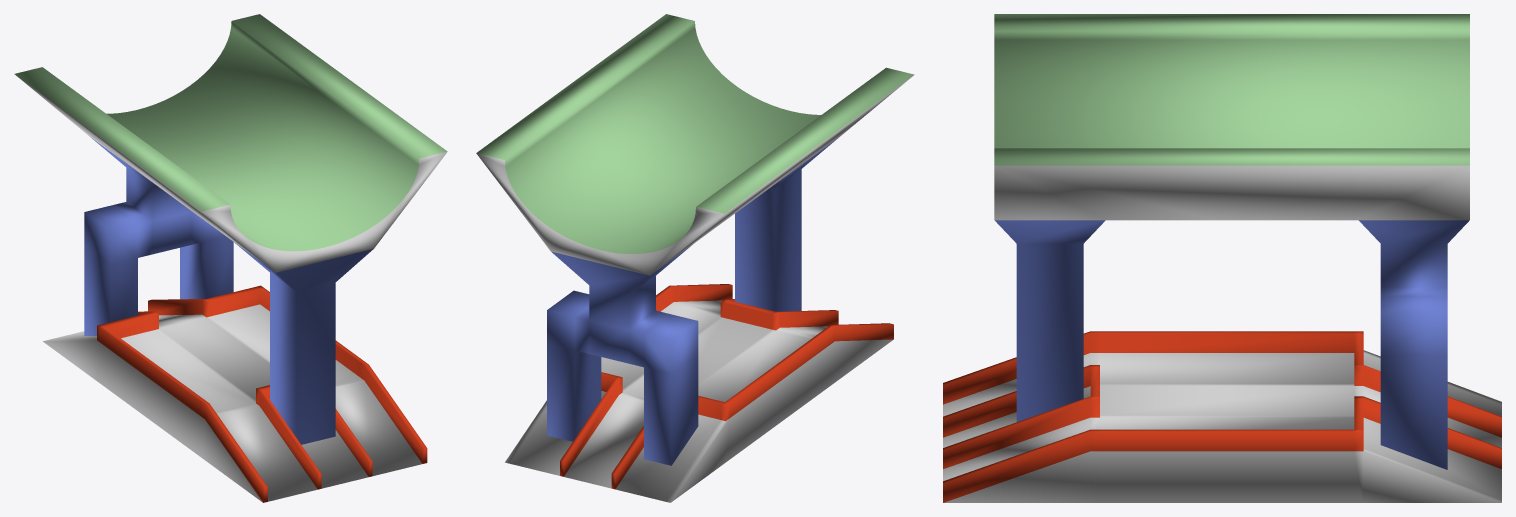
Rendered from Ramp-half.fbx.
3 views of the same model, side by side, from view 1: azimuth 30°, elevation 25°; view 2: azimuth 150°, elevation 25°; view 3: azimuth 270°, elevation 25° (orthographic). The views are drawn at different scales.
Parts seen in each view (by area): view 1: Halfpipe_ramps; view 2: Halfpipe_ramps; view 3: Halfpipe_ramps.
Part boxes in pixels (left/top/right/bottom): Halfpipe_ramps: left=14, top=14, right=447, bottom=502; Halfpipe_ramps: left=476, top=14, right=914, bottom=502; Halfpipe_ramps: left=943, top=14, right=1501, bottom=502.
Bounding box in the file's own units: 1.72 × 1.92 × 2.68.
